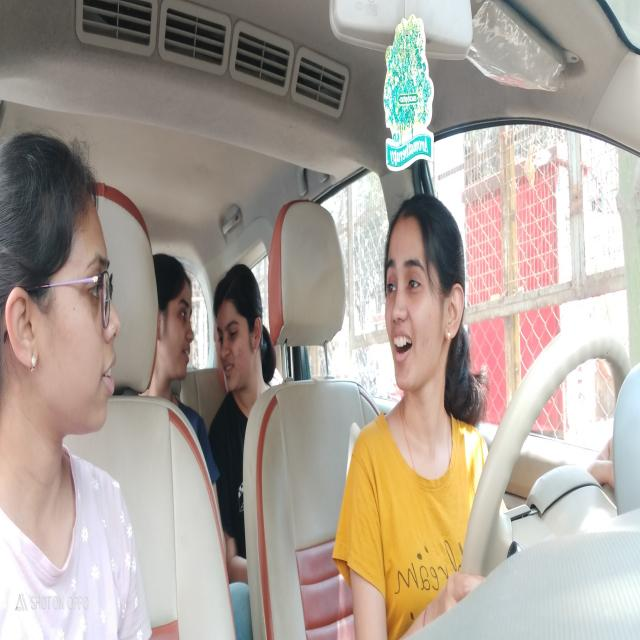LeftRight: (381, 192, 467, 408)
person: (3, 127, 123, 446), (213, 260, 268, 393), (152, 247, 197, 391)
talking: (98, 344, 119, 400), (390, 324, 415, 366)
